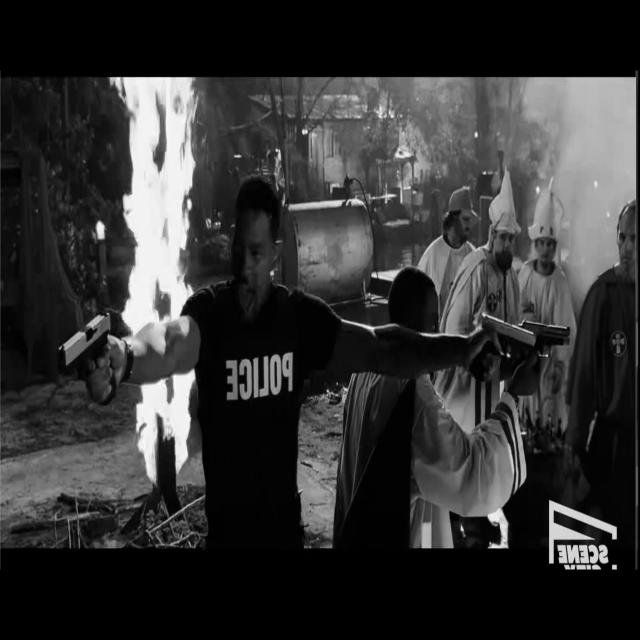weapons: (52, 301, 120, 418), (462, 305, 544, 385)
